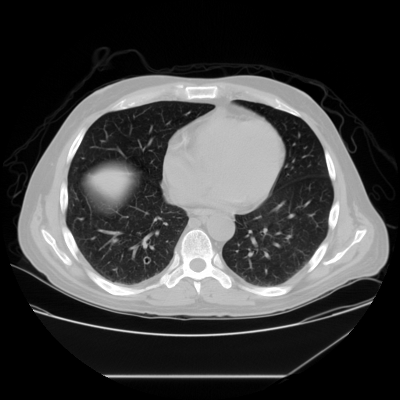nodule: (142, 256, 150, 264)
